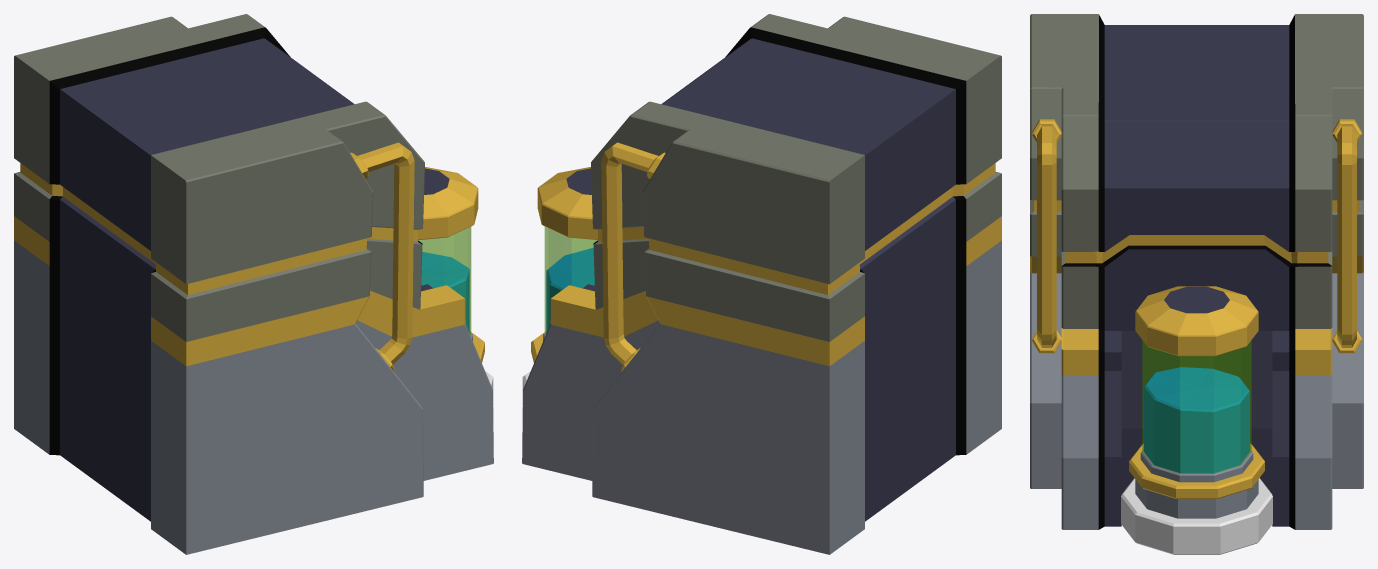
Rendered from Wall_inmiddle2_R.fbx.
The picture shows the model from 3 angles, left to right: view 1: azimuth 30°, elevation 25°; view 2: azimuth 150°, elevation 25°; view 3: azimuth 270°, elevation 25°; orthographic projection. The views are drawn at different scales.
Visible parts, largest first — view 1: Wall_inmiddle2_R; view 2: Wall_inmiddle2_R; view 3: Wall_inmiddle2_R.
Part boxes in pixels (x1,y1,x2,y2): Wall_inmiddle2_R: [14, 14, 493, 554]; Wall_inmiddle2_R: [522, 14, 1001, 554]; Wall_inmiddle2_R: [1030, 14, 1363, 554].
Size of the model in its own units: 76.71 by 72.16 by 60.06.
